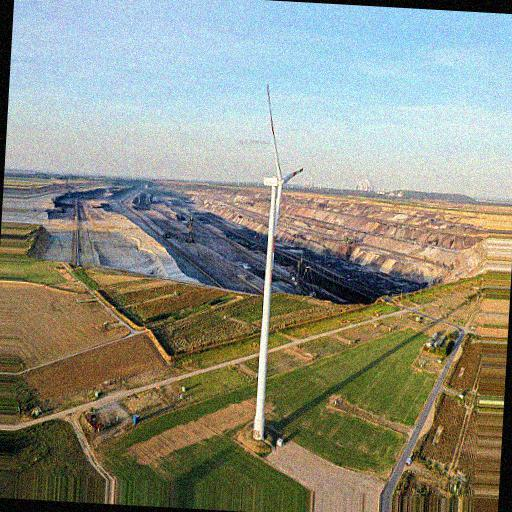wind turbine: (250, 85, 304, 437)
